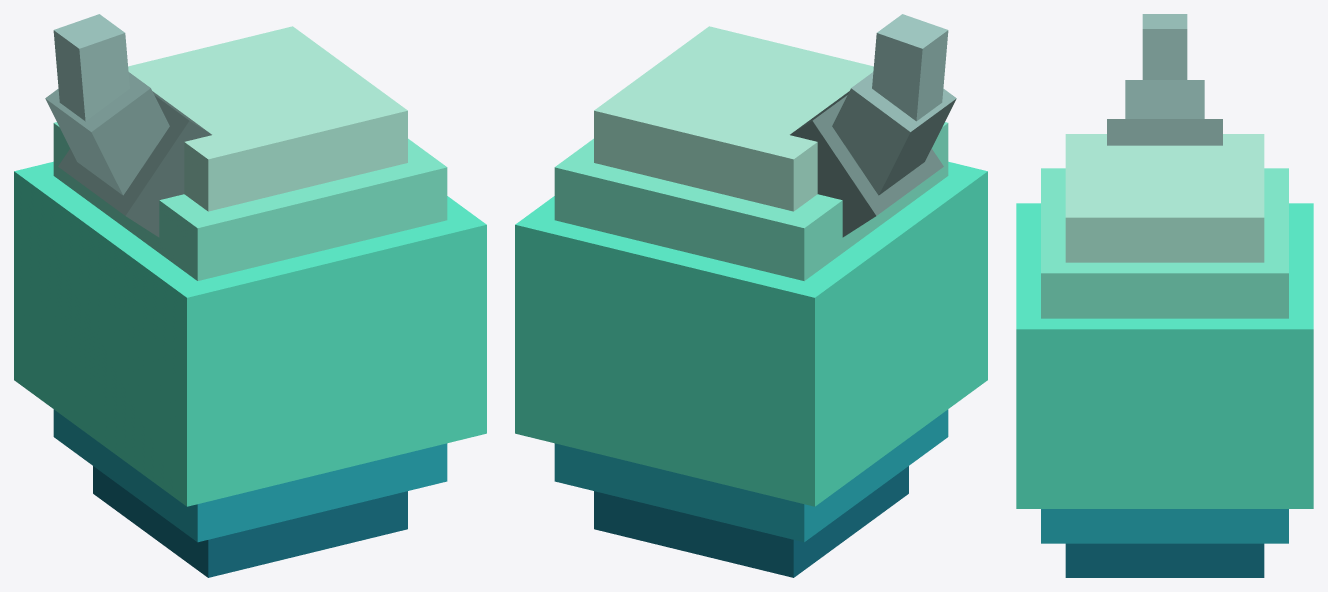
Rendered from egg_epic.obj.
The picture shows the model from 3 angles, left to right: view 1: azimuth 30°, elevation 25°; view 2: azimuth 150°, elevation 25°; view 3: azimuth 270°, elevation 25°; orthographic projection. The views are drawn at different scales.
Parts seen in each view (by area): view 1: E3, E1U, E2U, E2D, E1D; view 2: E3, E1U, E2U, E2D, E1D; view 3: E3, E1U, E2U, E2D, E1D.
Boxes of the visible parts, box(x1,y1,x2,y2) form: E3: box(14, 161, 486, 506); E1U: box(45, 14, 407, 237); E2U: box(53, 122, 447, 280); E2D: box(53, 409, 447, 542); E1D: box(93, 466, 407, 577); E3: box(515, 161, 987, 506); E1U: box(594, 14, 956, 237); E2U: box(554, 122, 948, 280); E2D: box(554, 409, 948, 542); E1D: box(594, 466, 908, 577); E3: box(1016, 203, 1313, 508); E1U: box(1065, 14, 1264, 262); E2U: box(1041, 168, 1288, 318); E2D: box(1041, 509, 1288, 543); E1D: box(1065, 543, 1264, 577).
Size of the model in its own units: 5.08 by 7.59 by 4.56.
